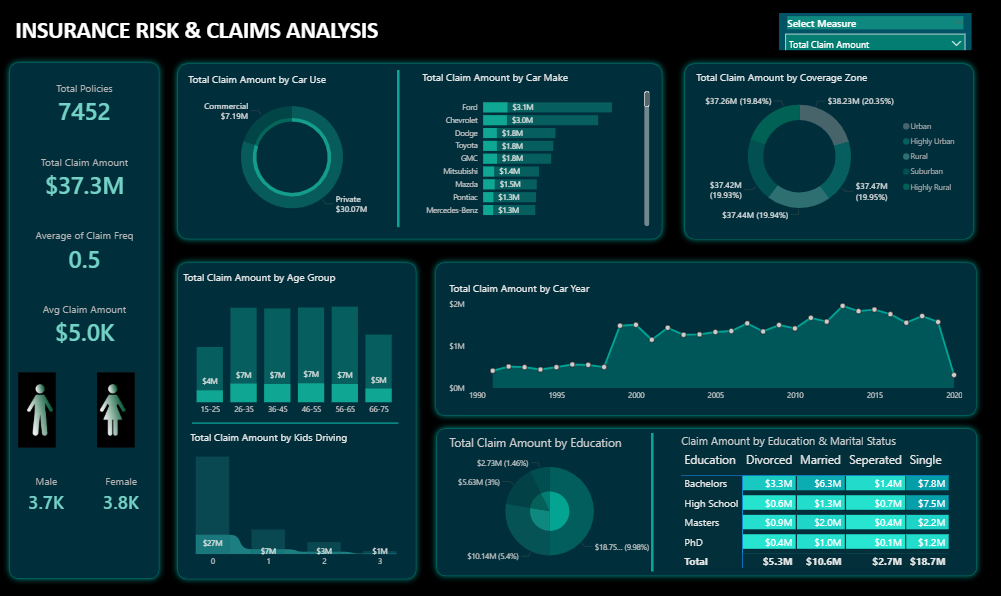

The page's visual inventory and layout, read from the dashboard file:
{"tool":"powerbi","page":{"name":"Page 1","canvas":[1600,950],"ordinal":0},"visuals":[{"type":"textbox","box":[25.5,22.7,613.6,69.1],"z":0},{"type":"shape","box":[10.4,91.9,258.3,840.8],"z":1000},{"type":"cardVisual","fields":{"Data":["insurance_data_car.Total Policies","insurance_data_car.Total Claim Amount","Avg(insurance_data_car.Claim Freq)","insurance_data_car.Avg Claim Amount"]},"box":[36.4,114.4,208,459.4],"z":2000},{"type":"cardVisual","fields":{"Data":["insurance_data_car.Male","insurance_data_car.Female"]},"box":[26,731.6,228.8,110.9],"z":3000},{"type":"image","box":[0,589.4,130,130],"z":4000},{"type":"image","box":[124.8,589.4,130,130],"z":5000},{"type":"slicer","fields":{"Values":["Select Measure.Select Measure"]},"box":[1244.4,23.3,305.6,58.9],"z":6000},{"type":"shape","box":[277.4,93.6,790.5,299.9],"z":7000},{"type":"donutChart","fields":{"Y":["insurance_data_car.Total Claim Amount"],"Category":["insurance_data_car.Car Use"]},"box":[299.9,117.9,339.8,249.6],"z":8000},{"type":"clusteredBarChart","fields":{"Y":["insurance_data_car.Total Claim Amount"],"Category":["insurance_data_car.Car Make"]},"box":[672.6,114.4,371,253.1],"z":9000},{"type":"shape","box":[1083.6,93.6,480,300],"z":10000},{"type":"donutChart","fields":{"Y":["insurance_data_car.Total Claim Amount"],"Category":["insurance_data_car.Coverage Zone"]},"box":[1107.8,114.4,430,253.1],"z":11000},{"type":"shape","box":[277.4,409.1,400,523.5],"z":12000},{"type":"clusteredColumnChart","fields":{"Y":["insurance_data_car.Total Claim Amount"],"Category":["insurance_data_car.Age Group"]},"box":[293,431.7,364,240],"z":13000},{"type":"ribbonChart","fields":{"Y":["insurance_data_car.Total Claim Amount"],"Category":["insurance_data_car.Kids Driving"]},"box":[303.4,686.5,346.7,227.1],"z":14000},{"type":"shape","box":[688,410,880,264],"z":15000},{"type":"areaChart","fields":{"Y":["insurance_data_car.Total Claim Amount"],"Category":["insurance_data_car.Car Year"]},"box":[714.2,449,825,200],"z":16000},{"type":"shape","box":[690,674.4,878.9,254.8],"z":17000},{"type":"pieChart","fields":{"Y":["insurance_data_car.Total Claim Amount"],"Category":["insurance_data_car.Education"]},"box":[714.2,693.4,329.4,220.2],"z":18000},{"type":"pivotTable","title":"Claim Amount by Education & Marital Status","fields":{"Columns":["insurance_data_car.Marital Status"],"Rows":["insurance_data_car.Education"],"Values":["insurance_data_car.Total Claim Amount"]},"box":[1083.5,691.7,457.7,220.2],"z":19000},{"type":"shape","box":[312,655.3,327.6,41.6],"z":20000},{"type":"shape","box":[605,114.4,67.6,249.6],"z":21000},{"type":"shape","box":[1008.9,691.7,67.6,220.2],"z":22000}]}

Visuals, with their boxes in screenshot pixels (x1, y1, x2, y2), scaled from the page's 1600x950 canvas onto the 1001x596 screenshot:
textbox: bbox=(16, 14, 400, 58)
shape: bbox=(7, 58, 168, 585)
cardVisual - insurance_data_car.Total Policies x insurance_data_car.Total Claim Amount: bbox=(23, 72, 153, 360)
cardVisual - insurance_data_car.Male x insurance_data_car.Female: bbox=(16, 459, 159, 529)
image: bbox=(0, 370, 81, 451)
image: bbox=(78, 370, 159, 451)
slicer - Select Measure.Select Measure: bbox=(779, 15, 970, 52)
shape: bbox=(174, 59, 668, 247)
donutChart - insurance_data_car.Total Claim Amount x insurance_data_car.Car Use: bbox=(188, 74, 400, 231)
clusteredBarChart - insurance_data_car.Total Claim Amount x insurance_data_car.Car Make: bbox=(421, 72, 653, 231)
shape: bbox=(678, 59, 978, 247)
donutChart - insurance_data_car.Total Claim Amount x insurance_data_car.Coverage Zone: bbox=(693, 72, 962, 231)
shape: bbox=(174, 257, 424, 585)
clusteredColumnChart - insurance_data_car.Total Claim Amount x insurance_data_car.Age Group: bbox=(183, 271, 411, 421)
ribbonChart - insurance_data_car.Total Claim Amount x insurance_data_car.Kids Driving: bbox=(190, 431, 407, 573)
shape: bbox=(430, 257, 981, 423)
areaChart - insurance_data_car.Total Claim Amount x insurance_data_car.Car Year: bbox=(447, 282, 963, 407)
shape: bbox=(432, 423, 982, 583)
pieChart - insurance_data_car.Total Claim Amount x insurance_data_car.Education: bbox=(447, 435, 653, 573)
"Claim Amount by Education & Marital Status" pivotTable: bbox=(678, 434, 964, 572)
shape: bbox=(195, 411, 400, 437)
shape: bbox=(379, 72, 421, 228)
shape: bbox=(631, 434, 673, 572)
